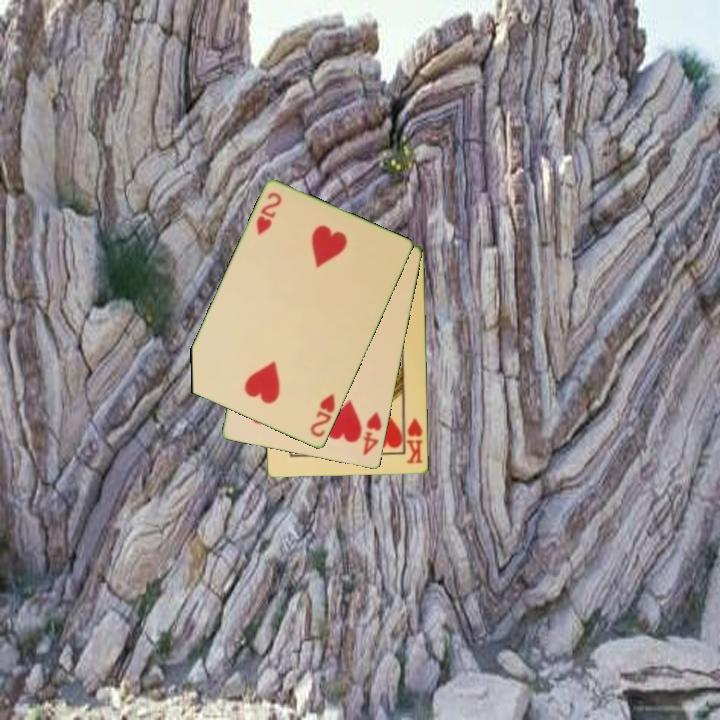2h: (307, 390, 338, 441), (253, 189, 285, 238)
4h: (360, 408, 385, 459)
Kh: (401, 412, 426, 466)
